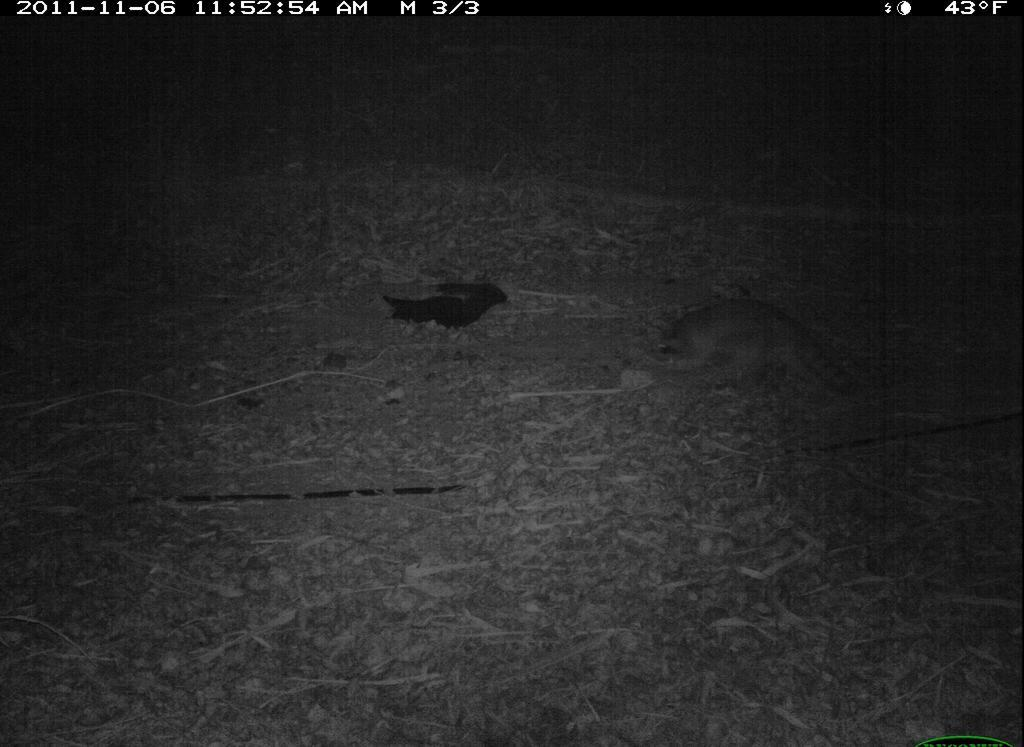raccoon: (657, 289, 859, 419)
